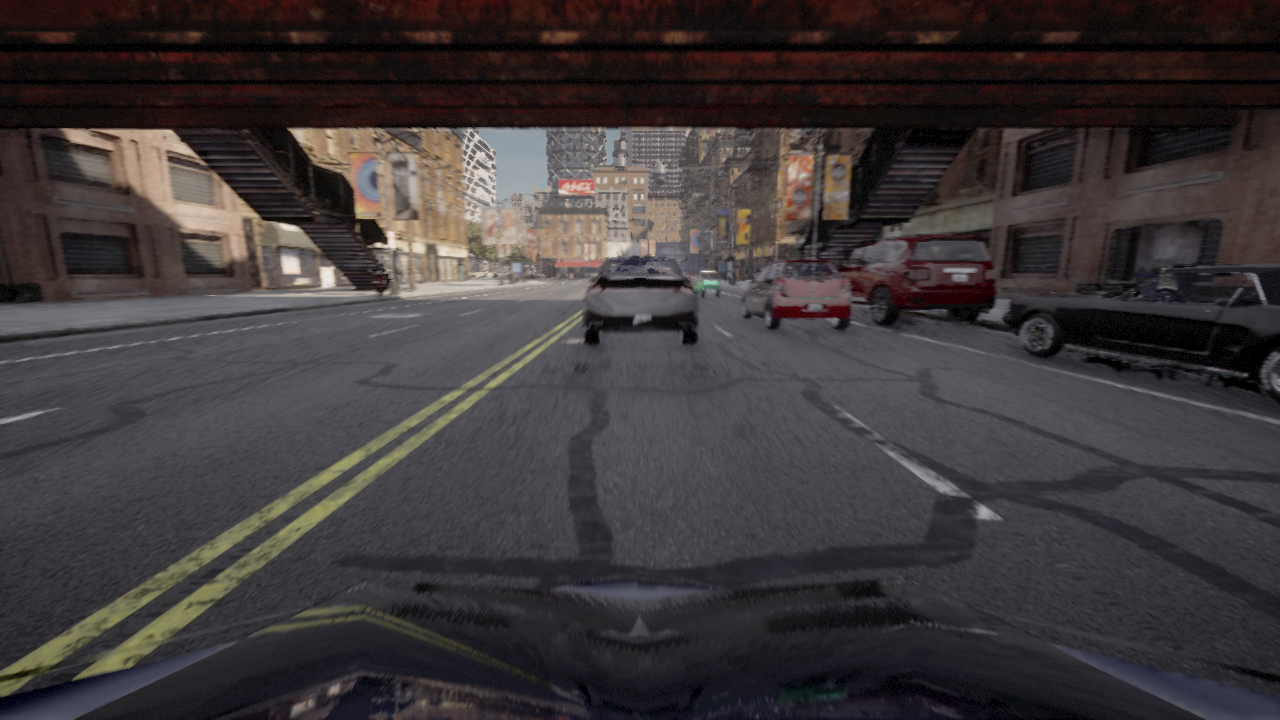cyclist: (0, 569, 1279, 719), (1003, 264, 1279, 403), (835, 235, 996, 325), (583, 256, 698, 345), (741, 259, 851, 330), (692, 270, 720, 297), (369, 269, 389, 296), (527, 273, 547, 279), (502, 273, 509, 278), (290, 265, 291, 266)
pedestrian: (739, 265, 745, 284), (753, 264, 761, 275), (407, 267, 409, 275)
